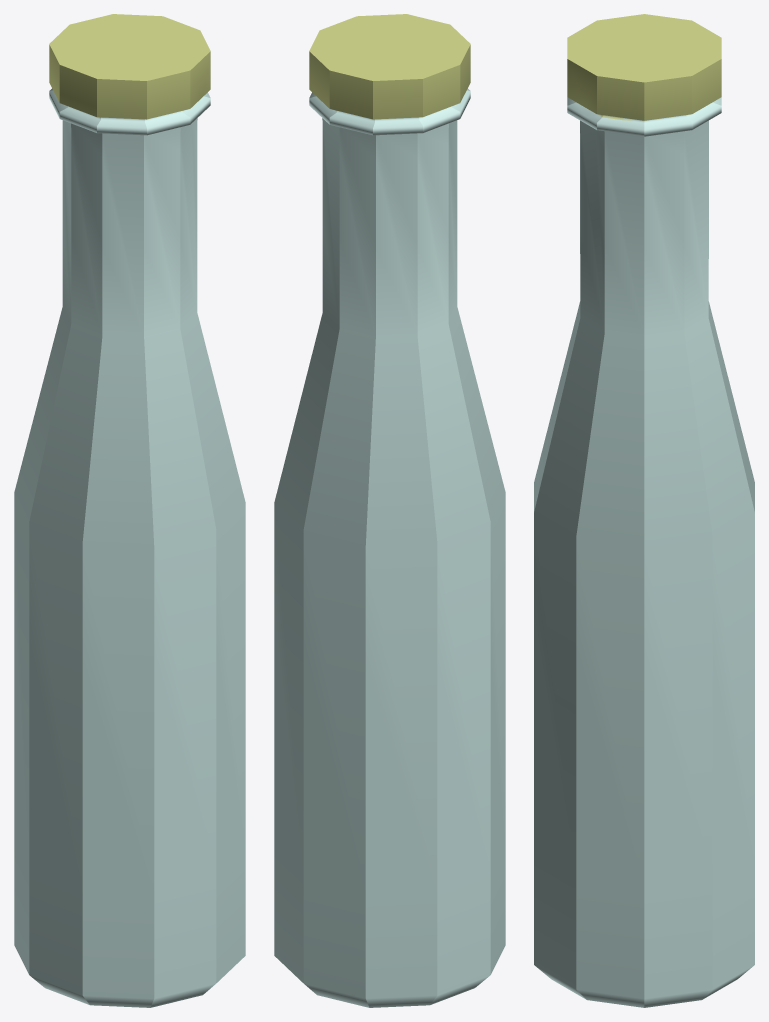
The model's file is soda_bottle_single.fbx.
3 renders of one model, left to right at view 1: azimuth 30°, elevation 25°; view 2: azimuth 150°, elevation 25°; view 3: azimuth 270°, elevation 25°, orthographic.
Visible parts, largest first — view 1: sodaottle; view 2: sodaottle; view 3: sodaottle.
Boxes of the visible parts, box(x1,y1,x2,y2) form: sodaottle: box(14, 14, 245, 1007); sodaottle: box(274, 14, 505, 1007); sodaottle: box(534, 14, 754, 1007).
Size of the model in its own units: 1.19 by 5.21 by 1.13.
1 material, 1 textured.
